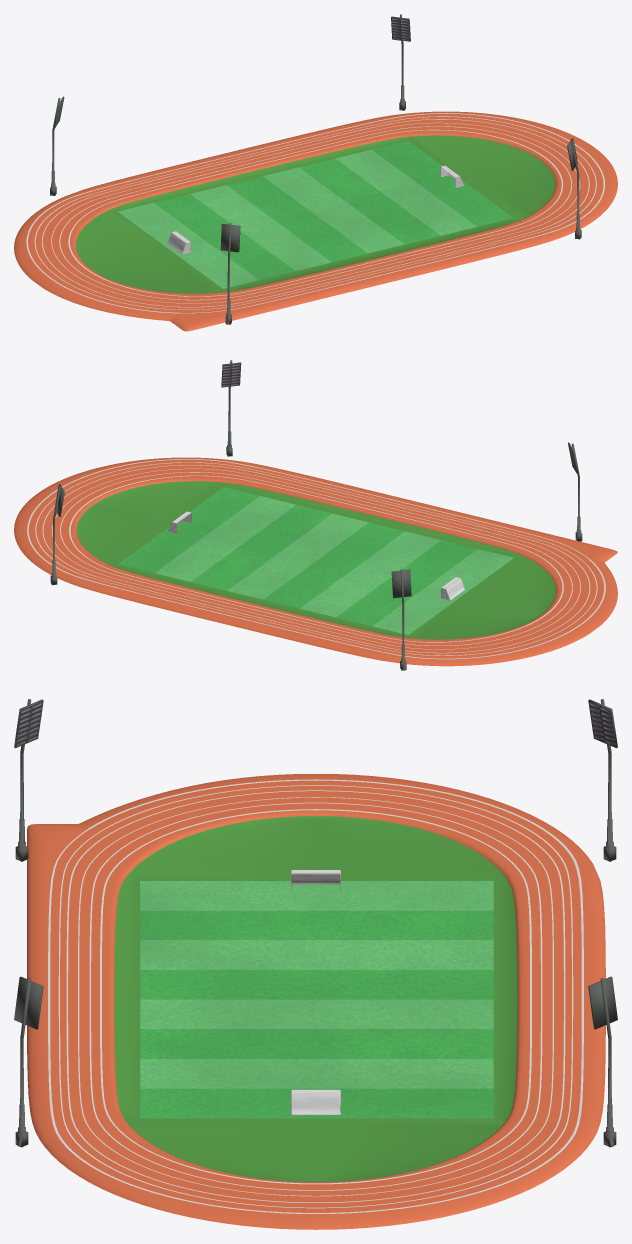
File: Running_Track.fbx
The picture shows the model from 3 angles, top to bottom: view 1: azimuth 30°, elevation 25°; view 2: azimuth 150°, elevation 25°; view 3: azimuth 270°, elevation 25°; orthographic projection. The views are drawn at different scales.
Visible parts, largest first — view 1: Running_Track, Track Lines, Fled Lights, Goal_Post; view 2: Running_Track, Track Lines, Fled Lights, Goal_Post; view 3: Running_Track, Track Lines, Fled Lights, Goal_Post.
Boxes of the visible parts, x1,y1,x2,y2 form: Running_Track: (14, 111, 617, 331); Track Lines: (26, 113, 604, 313); Fled Lights: (50, 14, 581, 324); Goal_Post: (167, 165, 464, 254); Running_Track: (14, 457, 617, 666); Track Lines: (27, 459, 605, 659); Fled Lights: (50, 360, 582, 670); Goal_Post: (168, 511, 464, 600); Running_Track: (27, 774, 605, 1229); Track Lines: (48, 779, 583, 1213); Fled Lights: (14, 699, 617, 1147); Goal_Post: (291, 870, 340, 1114).
Bounding box in the file's own units: 15031 × 2520 × 8420.
